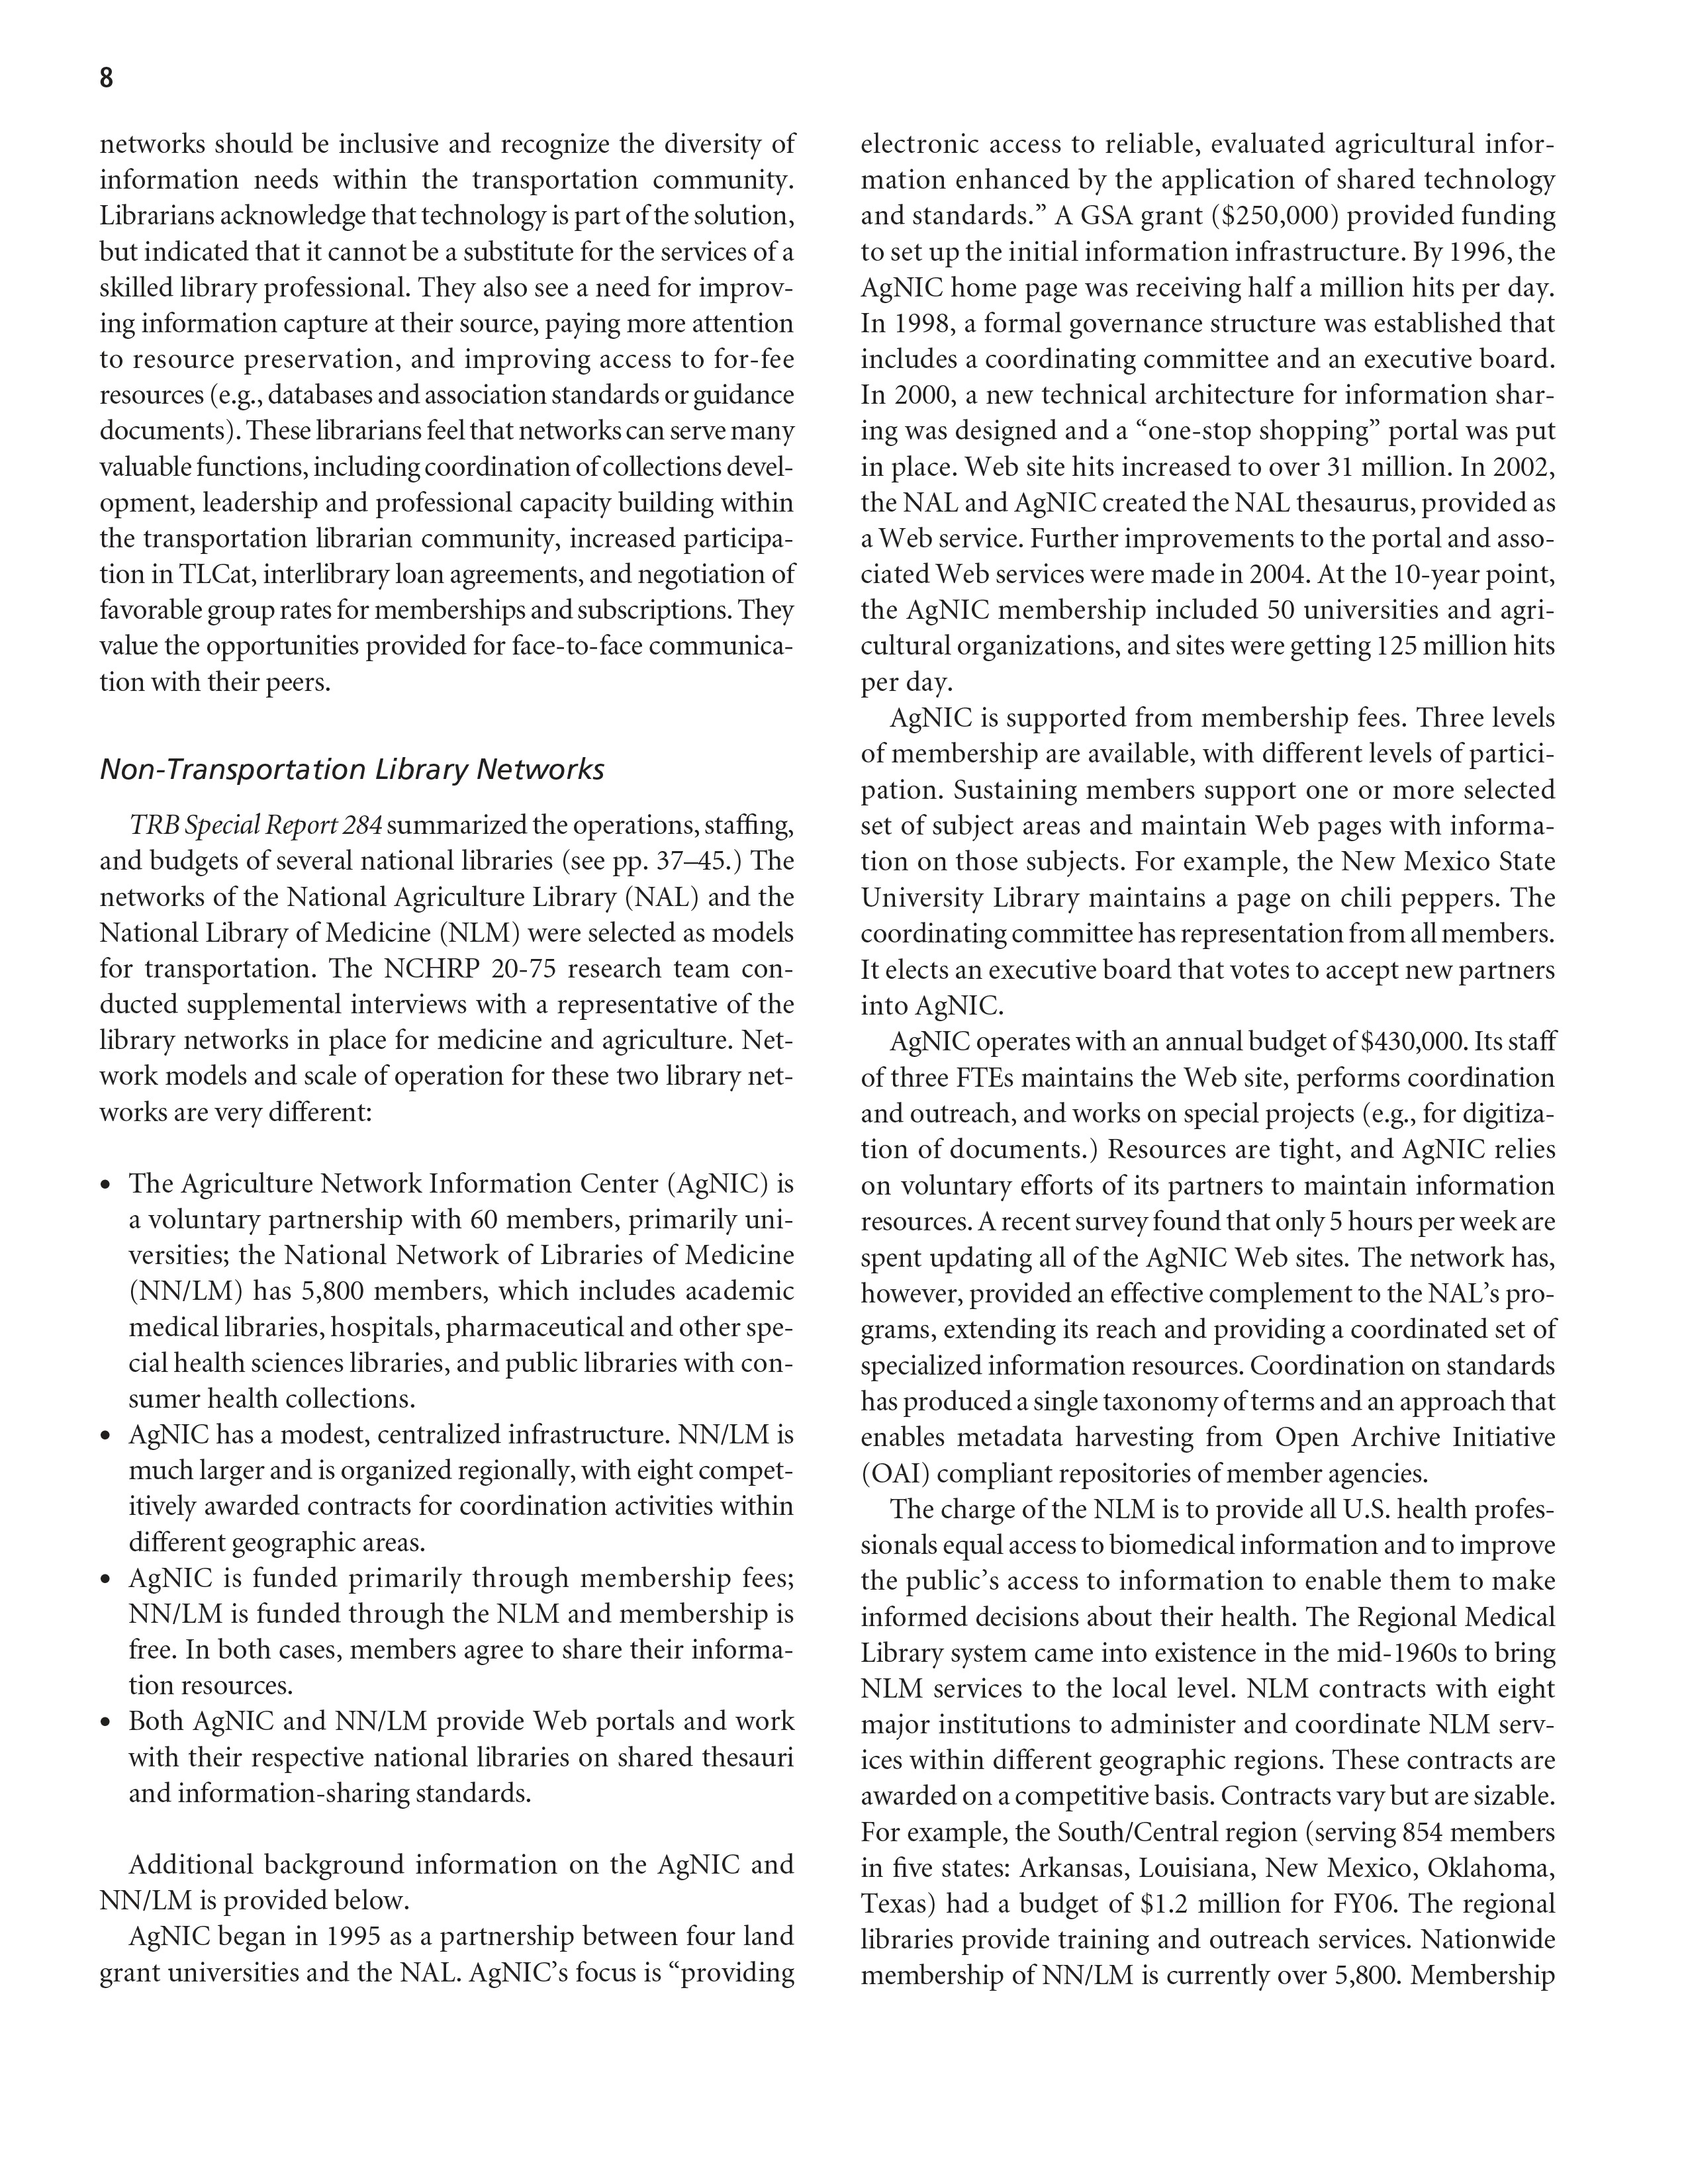list: (83, 1152, 807, 1837)
section: (87, 750, 619, 792)
text: (839, 115, 1573, 713), (96, 119, 816, 697), (849, 1500, 1566, 1998), (842, 1018, 1587, 1491), (83, 792, 800, 1147), (837, 727, 1560, 1032), (83, 1923, 807, 2001), (92, 1854, 810, 1920)
